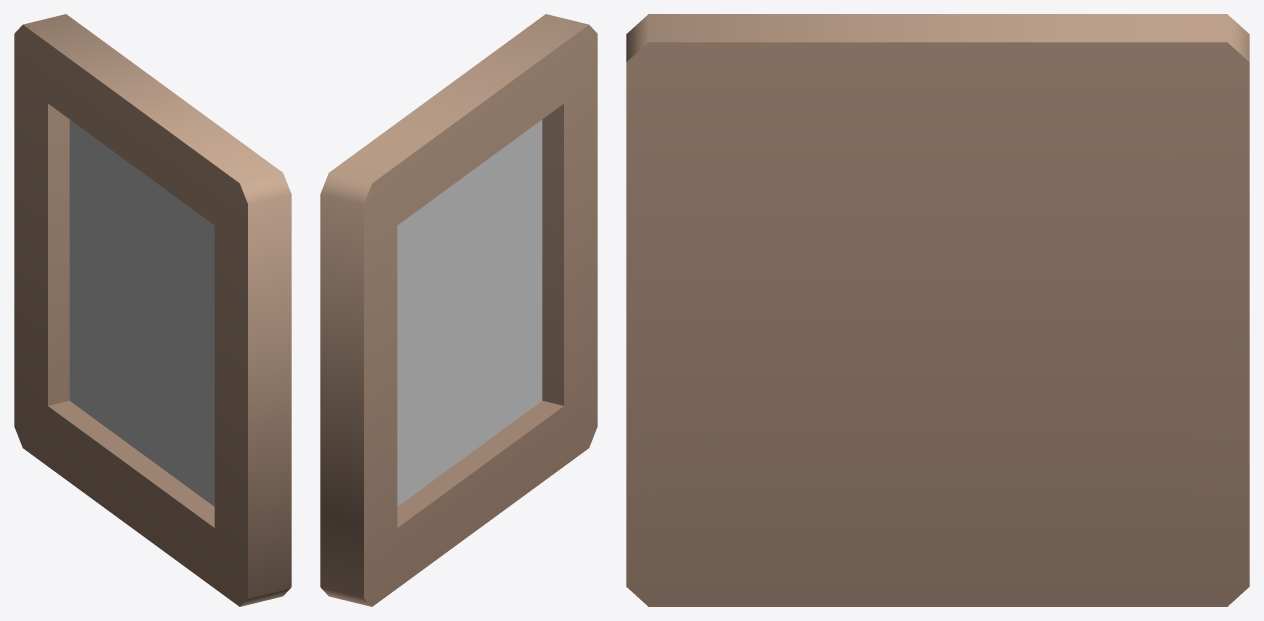
The model's file is art-frame-thick-square-small (%wall).glb.
The picture shows the model from 3 angles, left to right: view 1: azimuth 30°, elevation 25°; view 2: azimuth 150°, elevation 25°; view 3: azimuth 270°, elevation 25°; orthographic projection. The views are drawn at different scales.
Parts seen in each view (by area): view 1: art-frame-thick-square-small (%wall); view 2: art-frame-thick-square-small (%wall); view 3: art-frame-thick-square-small (%wall).
Boxes of the visible parts, x1,y1,x2,y2 form: art-frame-thick-square-small (%wall): [14, 14, 291, 606]; art-frame-thick-square-small (%wall): [320, 14, 597, 606]; art-frame-thick-square-small (%wall): [626, 14, 1249, 606].
Bounding box in the file's own units: 0.075 × 0.7 × 0.7.
